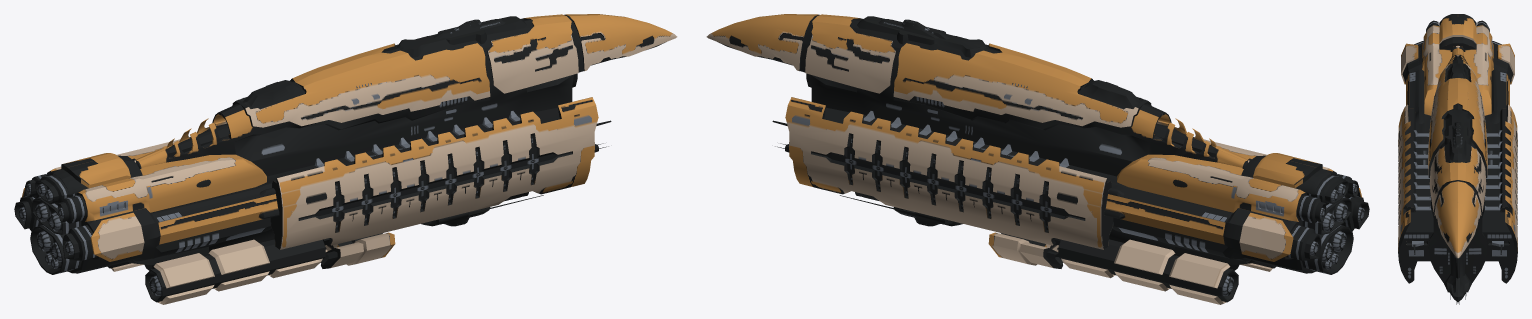
The model's file is abaddon.glb.
The picture shows the model from 3 angles, left to right: view 1: azimuth 30°, elevation 25°; view 2: azimuth 150°, elevation 25°; view 3: azimuth 270°, elevation 25°; orthographic projection. The views are drawn at different scales.
Visible parts, largest first — view 1: Abaddon; view 2: Abaddon; view 3: Abaddon.
Boxes of the visible parts, left/top/right/bottom form: Abaddon: left=14, top=14, right=677, bottom=304; Abaddon: left=706, top=14, right=1369, bottom=304; Abaddon: left=1398, top=14, right=1517, bottom=304.
Size of the model in its own units: 1246 by 386 by 264.
Materials: 1 (1 with a texture image).
